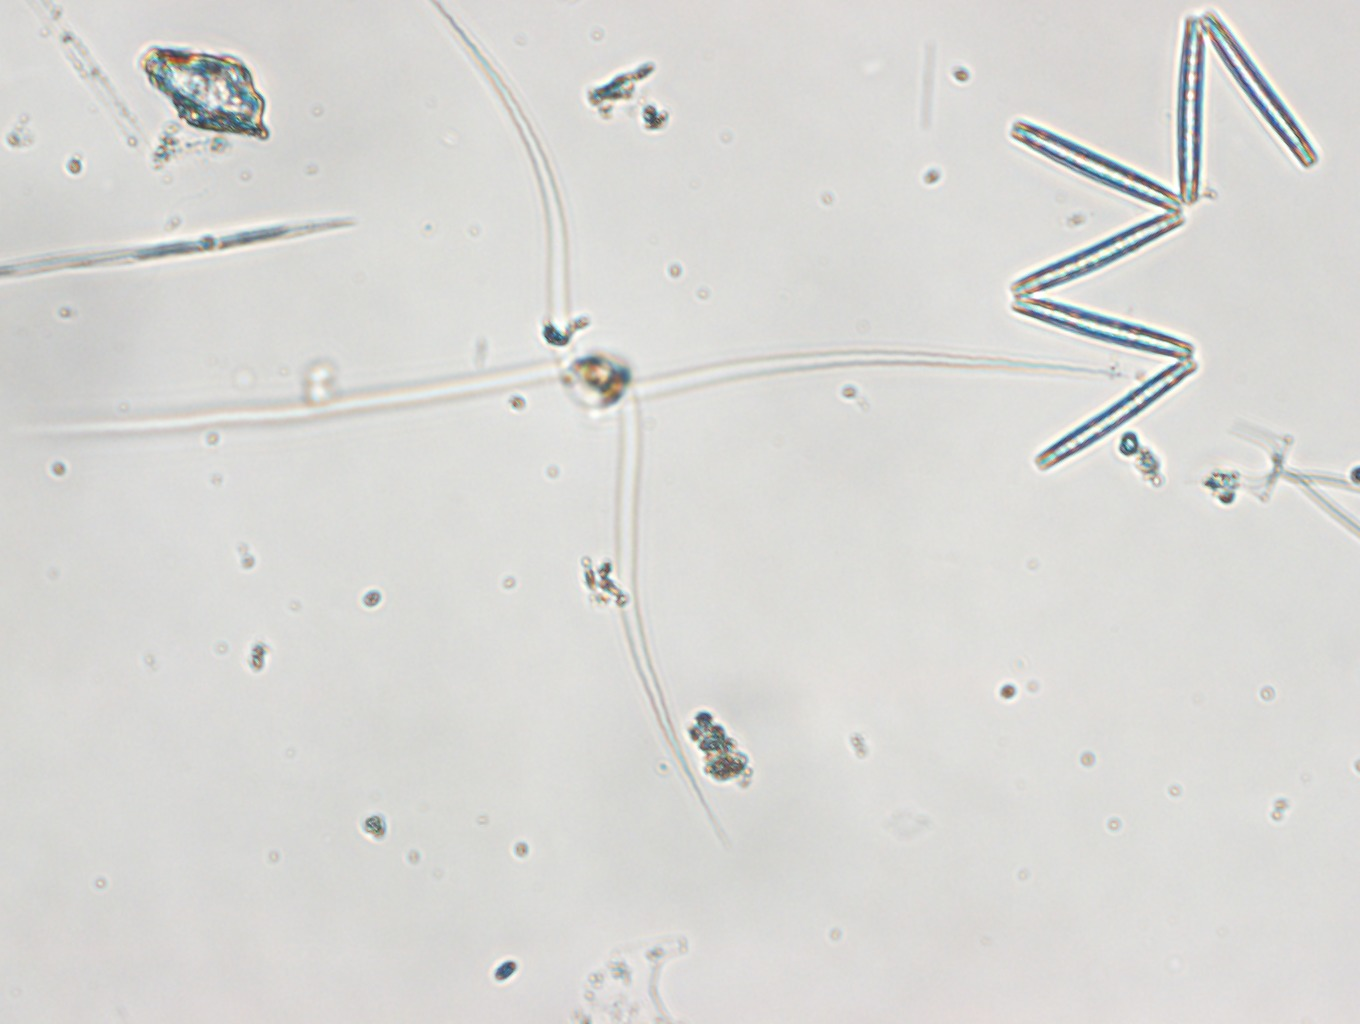thalassionema nitzschioides: (990, 11, 1317, 477)
